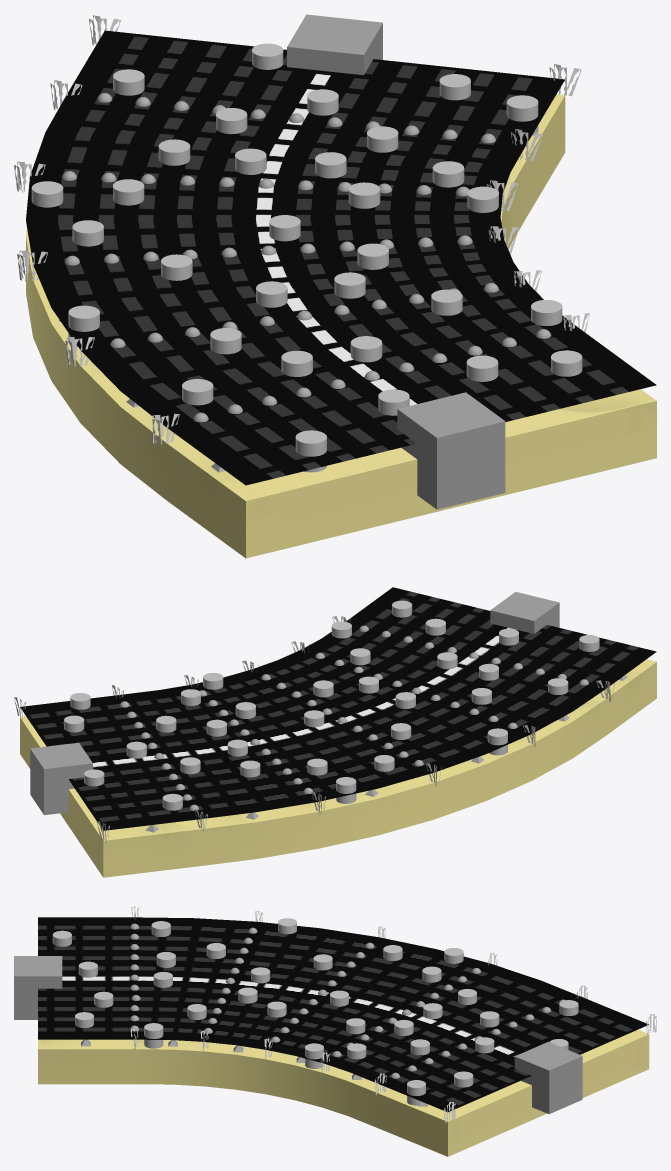
The model's file is assets012_Streckenteil_rechts001.fbx.
The picture shows the model from 3 angles, top to bottom: view 1: azimuth 30°, elevation 25°; view 2: azimuth 150°, elevation 25°; view 3: azimuth 270°, elevation 25°; orthographic projection. The views are drawn at different scales.
Parts seen in each view (by area): view 1: streckenteil_rechtskurve_indicator_geo, streckenteil_rechtskurve_geo1, startpoint, b (×8), a (×7), startpoint1, c (×5); view 2: streckenteil_rechtskurve_indicator_geo, streckenteil_rechtskurve_geo1, startpoint1, startpoint, b, a; view 3: streckenteil_rechtskurve_indicator_geo, streckenteil_rechtskurve_geo1, startpoint1, startpoint, a, b, c.
Part boxes in pixels (x1,y1,x2,y2): streckenteil_rechtskurve_indicator_geo: (26, 30, 656, 485); streckenteil_rechtskurve_geo1: (26, 94, 656, 558); startpoint: (397, 392, 505, 509); b (×8): (31, 152, 498, 307); a (×7): (68, 272, 582, 472); startpoint1: (287, 14, 382, 75); c (×5): (113, 69, 538, 208); streckenteil_rechtskurve_indicator_geo: (20, 587, 656, 830); streckenteil_rechtskurve_geo1: (20, 659, 656, 877); startpoint1: (30, 742, 92, 815); startpoint: (490, 592, 559, 633); b: (336, 777, 356, 803); a: (487, 728, 507, 755); streckenteil_rechtskurve_indicator_geo: (38, 917, 648, 1112); streckenteil_rechtskurve_geo1: (38, 1029, 649, 1156); startpoint1: (514, 1042, 582, 1114); startpoint: (14, 956, 62, 1019); a: (144, 1023, 163, 1048); b: (305, 1043, 323, 1068); c: (407, 1080, 425, 1105).
Size of the model in its own units: 49.79 by 6.5 by 66.66.
